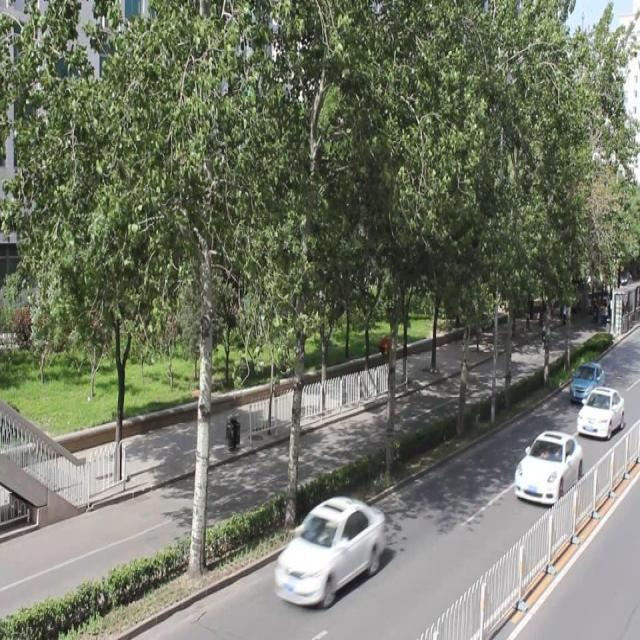car: (273, 494, 385, 604), (511, 428, 581, 506), (576, 386, 623, 438), (568, 361, 603, 403)
